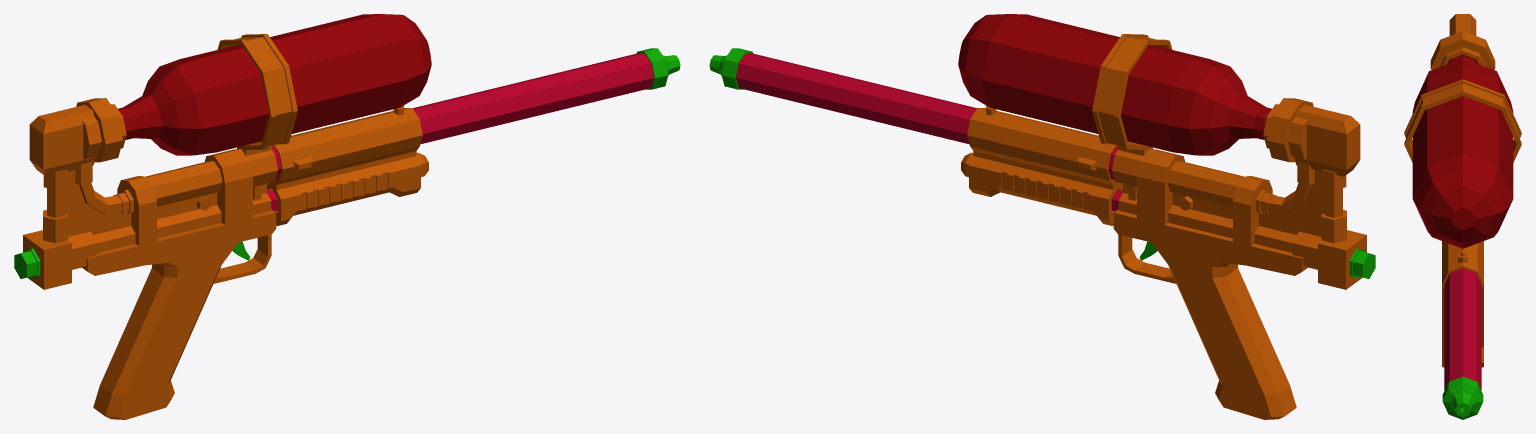
The model's file is Flamethrower.fbx.
3 views of the same model, side by side, from view 1: azimuth 30°, elevation 25°; view 2: azimuth 150°, elevation 25°; view 3: azimuth 270°, elevation 25° (orthographic). The views are drawn at different scales.
Visible parts, largest first — view 1: Cylinder.014; view 2: Cylinder.014; view 3: Cylinder.014.
Part boxes in pixels (<box>): Cylinder.014: <box>14,14,680,419</box>; Cylinder.014: <box>709,14,1375,419</box>; Cylinder.014: <box>1404,14,1521,419</box>.
Bounding box in the file's own units: 693 × 345 × 111.
